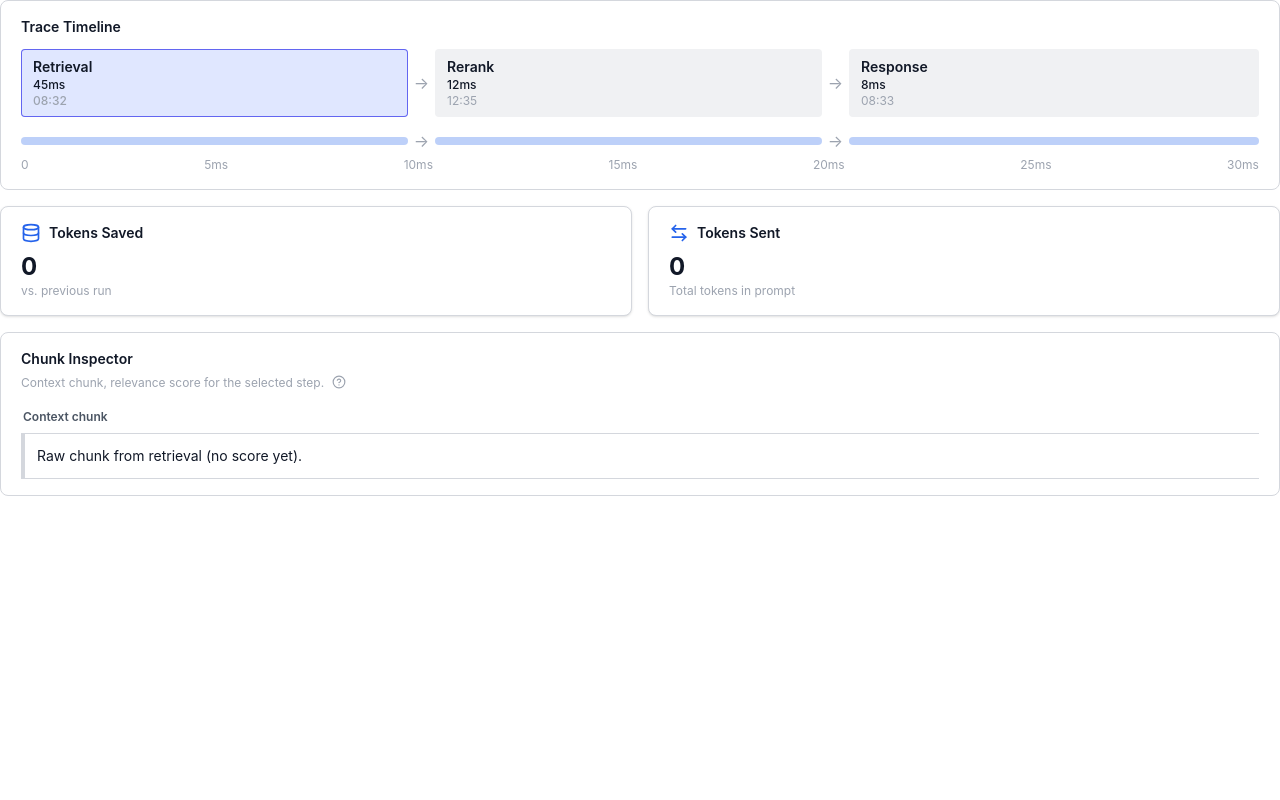
it: TraceView › hides Model routing card when Response step is not selected even if trace has routing data
The image size is (1280, 800).
Expected: the text "Model routing" is not shown
Click the button "Response 8ms 08:33" at (894, 66), box [849,49,1259,117]
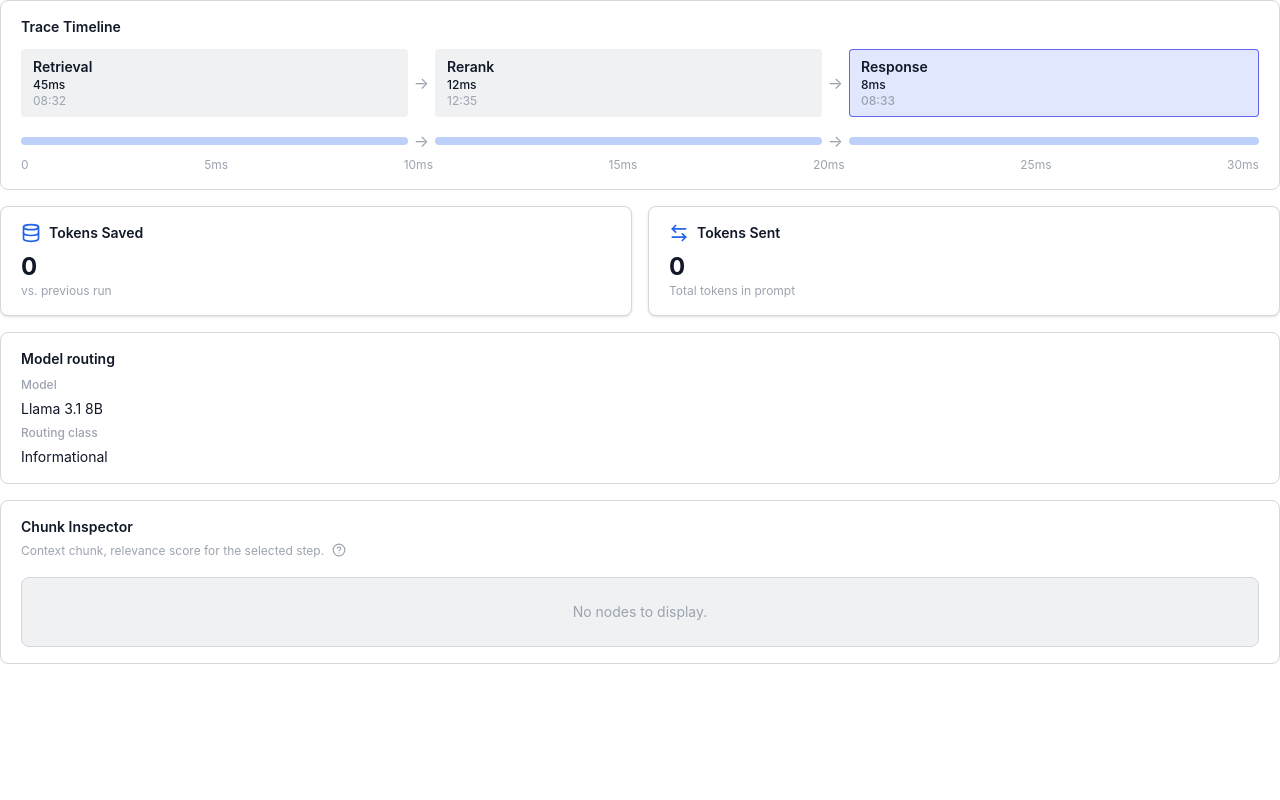
Now the heading "Model routing" is shown, box [21,350,115,367]
